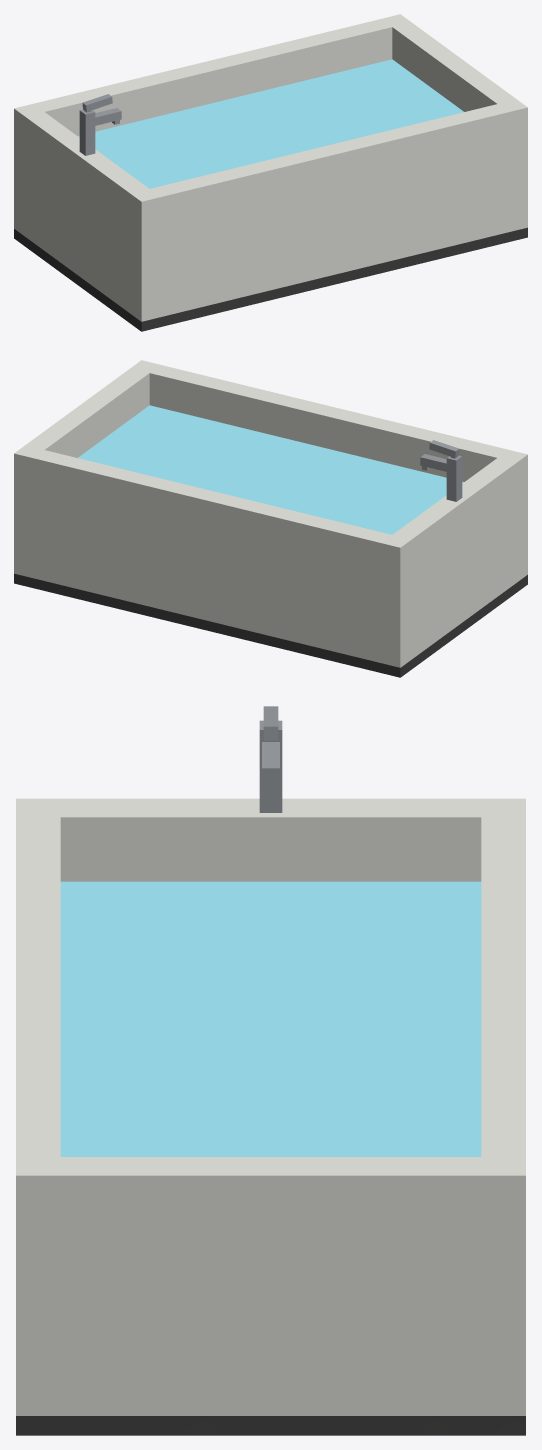
Rendered from Bath_Tub_2.fbx.
3 views of the same model, one above another, from view 1: azimuth 30°, elevation 25°; view 2: azimuth 150°, elevation 25°; view 3: azimuth 270°, elevation 25° (orthographic). The views are drawn at different scales.
Visible parts, largest first — view 1: polySurface1551; view 2: polySurface1551; view 3: polySurface1551.
Part boxes in pixels (<box>): polySurface1551: <box>14,14,527,331</box>; polySurface1551: <box>14,360,527,677</box>; polySurface1551: <box>16,706,525,1435</box>.
Size of the model in its own units: 3.5 by 1.57 by 2.
1 material, 1 textured.
